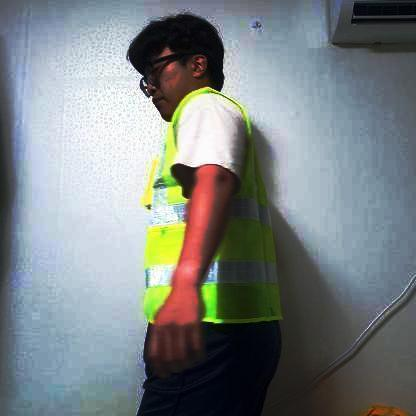no-helmet: (132, 13, 229, 82)
vest: (139, 87, 287, 329)
